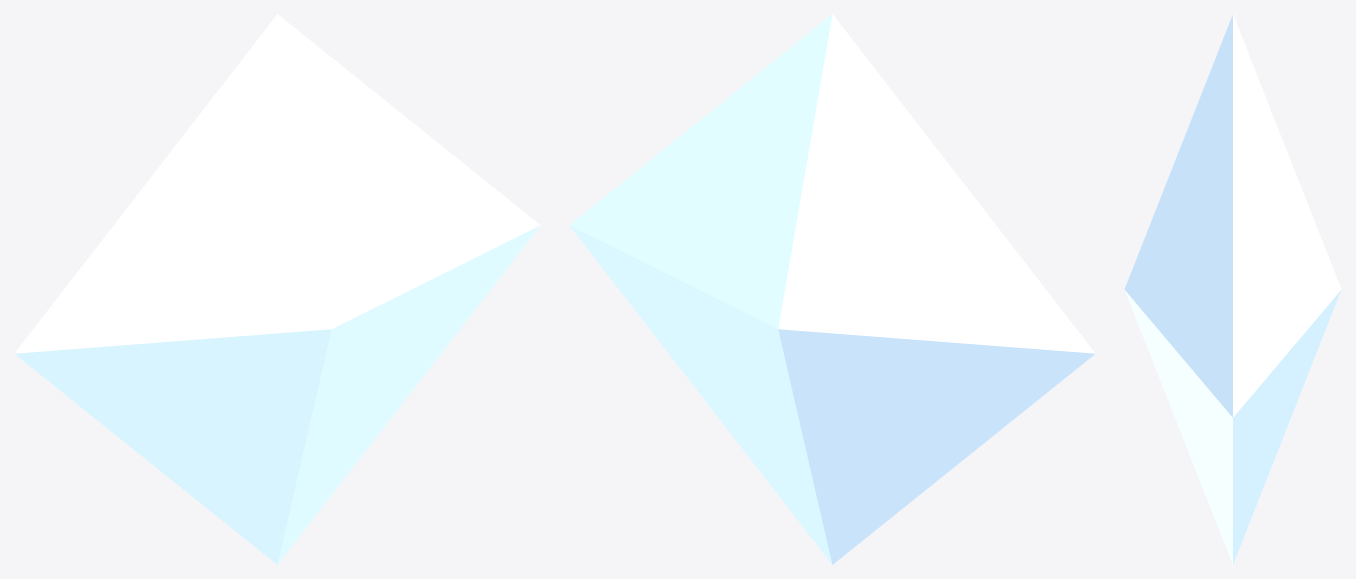
The model's file is cipher.glb.
3 renders of one model, left to right at view 1: azimuth 30°, elevation 25°; view 2: azimuth 150°, elevation 25°; view 3: azimuth 270°, elevation 25°, orthographic.
Parts seen in each view (by area): view 1: CipherStealthShield; view 2: CipherStealthShield; view 3: CipherStealthShield.
Boxes of the visible parts, box(x1,y1,x2,y2) form: CipherStealthShield: box(14, 14, 540, 564); CipherStealthShield: box(569, 14, 1095, 564); CipherStealthShield: box(1124, 14, 1341, 564).
Bounding box in the file's own units: 2.8 × 2.8 × 1.
